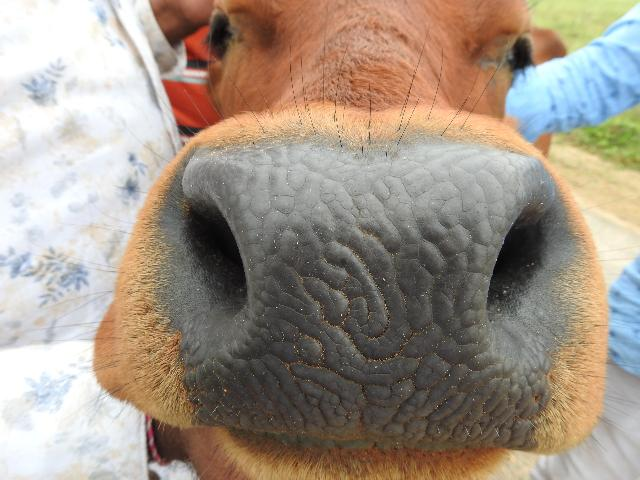Muzzle: (221, 161, 484, 445)
